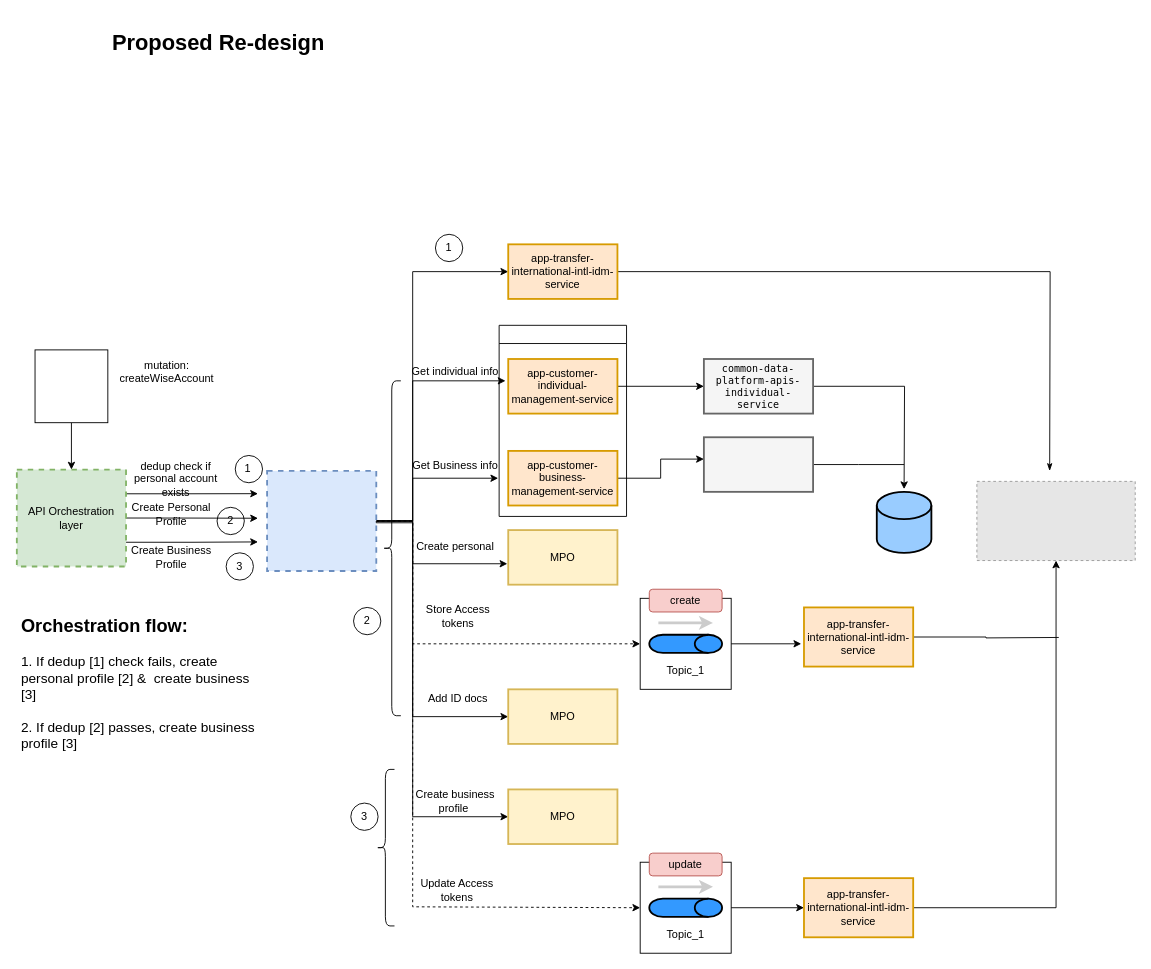
This 1151x969 diagram has some shape labels left out. Grey dashed boxes stand in for pictures. Each missing label, with the box of its shape:
API Service layer: (266, 470, 377, 571)
BFF: (34, 349, 108, 423)
common-data-platform-apis-business-service: (703, 436, 814, 492)
concurrent calls: (498, 324, 627, 516)
ODS: (875, 490, 932, 553)
